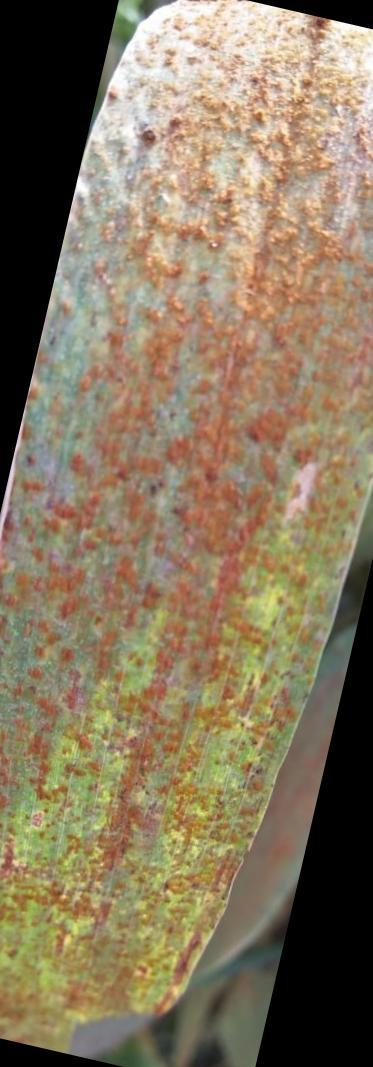Wheat: (0, 552, 345, 1055), (164, 30, 362, 540)
